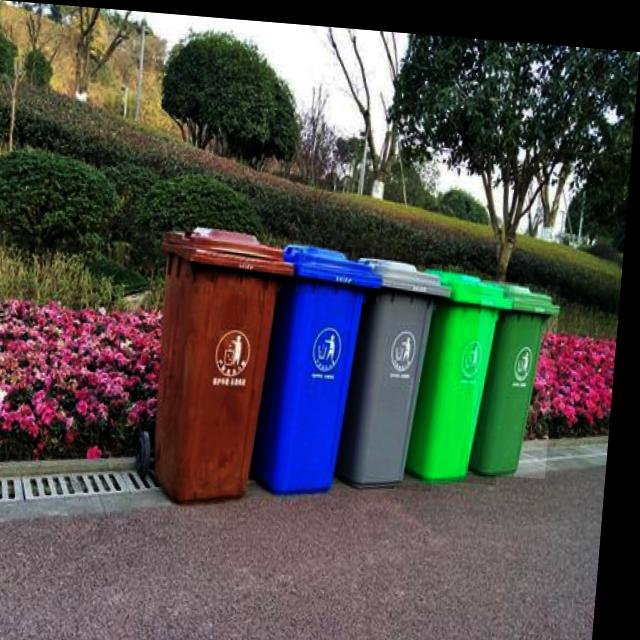garbage_bin: (146, 218, 299, 507), (257, 235, 387, 492), (339, 247, 454, 484), (412, 258, 517, 476), (474, 271, 565, 469)
